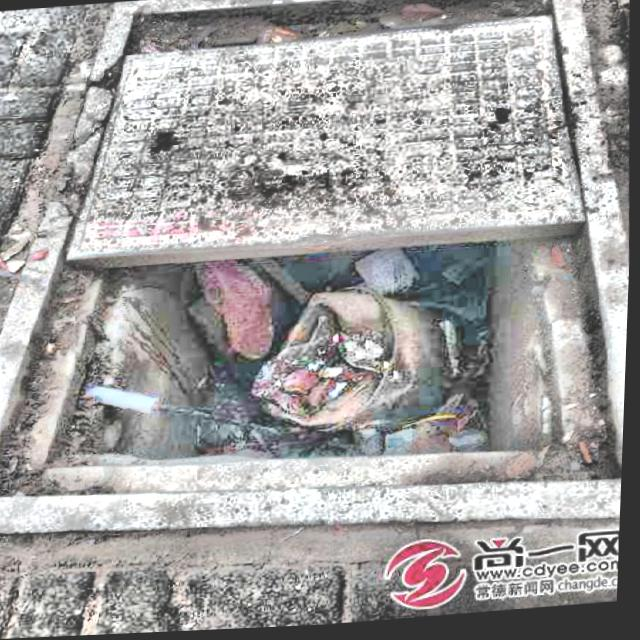open_manhole: (0, 0, 605, 532)
